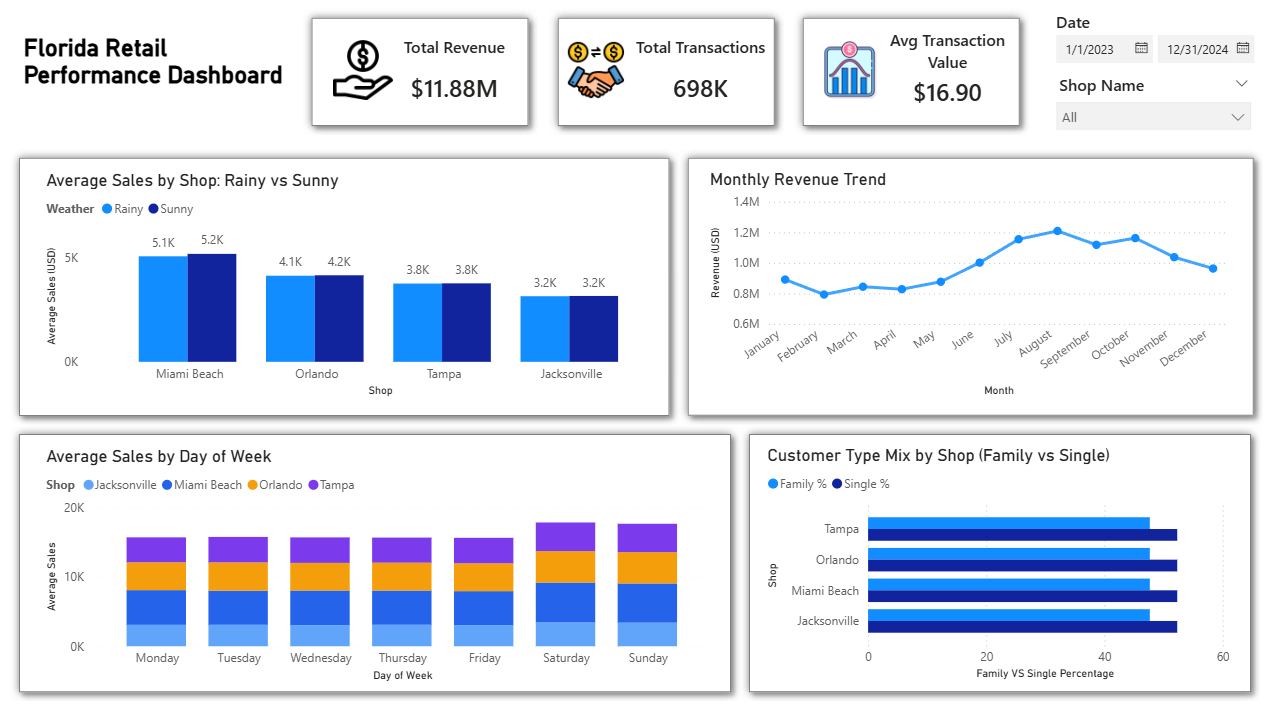

Layout of this report page (visuals, bound fields, positions):
{"tool":"powerbi","page":{"name":"Page 2","canvas":[1280,720],"ordinal":1},"visuals":[{"type":"textbox","box":[18.8,28.8,275,96.2],"z":0},{"type":"shape","box":[10,148.8,668.5,276.2],"z":0,"group":"g4"},{"type":"shape","box":[549,8.6,235,126.2],"z":1000,"group":"g3"},{"type":"shape","box":[794,9.2,235,126.2],"z":1000,"group":"g1"},{"type":"shape","box":[302.1,9.3,235,126.2],"z":1000,"group":"g2"},{"type":"slicer","fields":{"Values":["vw_retail_master.date"]},"box":[1044.4,24.8,216.4,48.2],"z":1000},{"type":"clusteredColumnChart","title":"Average Sales by Shop: Rainy vs Sunny","fields":{"Category":["vw_retail_master.shop_name"],"Y":["Avg(vw_retail_master.sales_usd)"],"Series":["vw_retail_master.Weather Label"]},"box":[41.3,169.8,637.2,231.8],"z":1000,"group":"g4"},{"type":"group","id":"g1","title":"Group 1","box":[794,9.2,235,128.8],"z":2000},{"type":"cardVisual","title":"Avg Transaction Value","fields":{"Data":["Avg(vw_retail_master.avg_transaction_value)"]},"box":[878,29,140,109],"z":2000,"group":"g1"},{"type":"cardVisual","title":"Total Transactions","fields":{"Data":["Sum(vw_retail_master.customers)"]},"box":[628.1,35,146.4,78.2],"z":2000,"group":"g3"},{"type":"cardVisual","title":"Total Revenue","fields":{"Data":["Sum(vw_retail_master.sales_usd)"]},"box":[381.2,35.7,146.4,78.2],"z":2000,"group":"g2"},{"type":"shape","box":[678.5,149.1,584,276],"z":2000,"group":"g4"},{"type":"group","id":"g2","title":"Group 1","box":[302.1,9.3,235.7,125.7],"z":3000},{"type":"image","box":[559,39.6,75,60],"z":3000,"group":"g3"},{"type":"image","box":[324.8,40.2,75.5,60],"z":3000,"group":"g2"},{"type":"image","box":[812.6,40.6,75.7,60],"z":3000,"group":"g1"},{"type":"lineChart","title":"Monthly Revenue Trend","fields":{"Category":["vw_retail_master.date.Variation.Date Hierarchy.Month"],"Y":["Sum(vw_retail_master.sales_usd)"]},"box":[705,168.6,528.9,233.2],"z":3000,"group":"g4"},{"type":"group","id":"g3","title":"Group 1","box":[549,8.6,235,126.2],"z":4000},{"type":"textbox","box":[1046.2,9.4,53.6,25.5],"z":5000},{"type":"slicer","fields":{"Values":["vw_retail_master.shop_name"]},"box":[1046.6,68.3,214.4,71.1],"z":6000},{"type":"shape","box":[10,425,730,276.2],"z":7000},{"type":"shape","box":[740,425.4,520,276.2],"z":8000},{"type":"group","id":"g4","title":"Group 2","box":[10,148.8,1252.5,276.2],"z":9000},{"type":"columnChart","title":"Average Sales by Day of Week","fields":{"Y":["Avg(vw_retail_master.sales_usd)"],"Category":["vw_retail_master.DayName"],"Series":["vw_retail_master.shop_name"]},"box":[41.4,445.7,675.7,240],"z":10000},{"type":"clusteredBarChart","title":"Customer Type Mix by Shop (Family vs Single)","fields":{"Y":["Avg(vw_retail_master.pct_family)","Avg(vw_retail_master.pct_single)"],"Category":["vw_retail_master.shop_name"]},"box":[762.3,445.4,472.3,240],"z":11000}]}

Visuals, with their boxes in screenshot pixels (x1, y1, x2, y2), scaled from the page's 1280x720 canvas onto the 1279x718 screenshot:
textbox: 19,29,294,125
shape: 10,148,678,424
shape: 549,9,783,134
shape: 793,9,1028,135
shape: 302,9,537,135
slicer - vw_retail_master.date: 1044,25,1260,73
"Average Sales by Shop: Rainy vs Sunny" clusteredColumnChart: 41,169,678,400
"Group 1" group: 793,9,1028,138
"Avg Transaction Value" cardVisual: 877,29,1017,138
"Total Transactions" cardVisual: 628,35,774,113
"Total Revenue" cardVisual: 381,36,527,114
shape: 678,149,1262,424
"Group 1" group: 302,9,537,135
image: 559,39,634,99
image: 325,40,400,100
image: 812,40,888,100
"Monthly Revenue Trend" lineChart: 704,168,1233,401
"Group 1" group: 549,9,783,134
textbox: 1045,9,1099,35
slicer - vw_retail_master.shop_name: 1046,68,1260,139
shape: 10,424,739,699
shape: 739,424,1259,700
"Group 2" group: 10,148,1262,424
"Average Sales by Day of Week" columnChart: 41,444,717,684
"Customer Type Mix by Shop (Family vs Single)" clusteredBarChart: 762,444,1234,683
